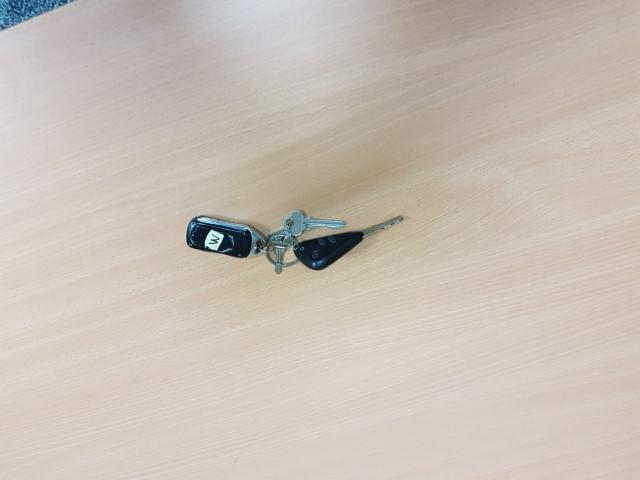key: (291, 212, 406, 275)
